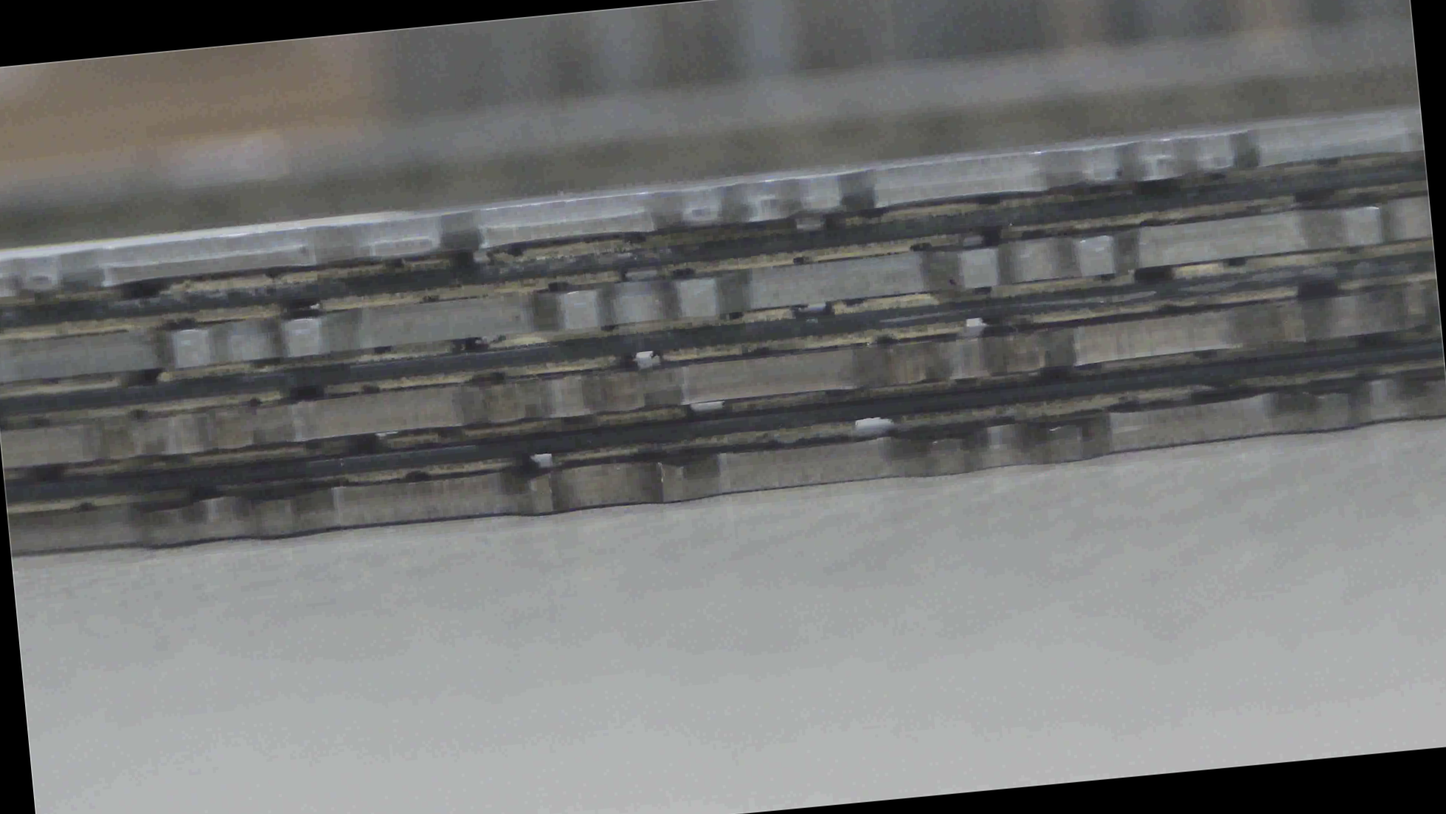Black metal plate: (7, 369, 1446, 558)
shiney metal plate: (10, 2, 1344, 599), (15, 287, 1424, 586), (0, 461, 1404, 754)
spacer: (19, 211, 1446, 457), (3, 213, 1445, 271), (0, 407, 1445, 439)
